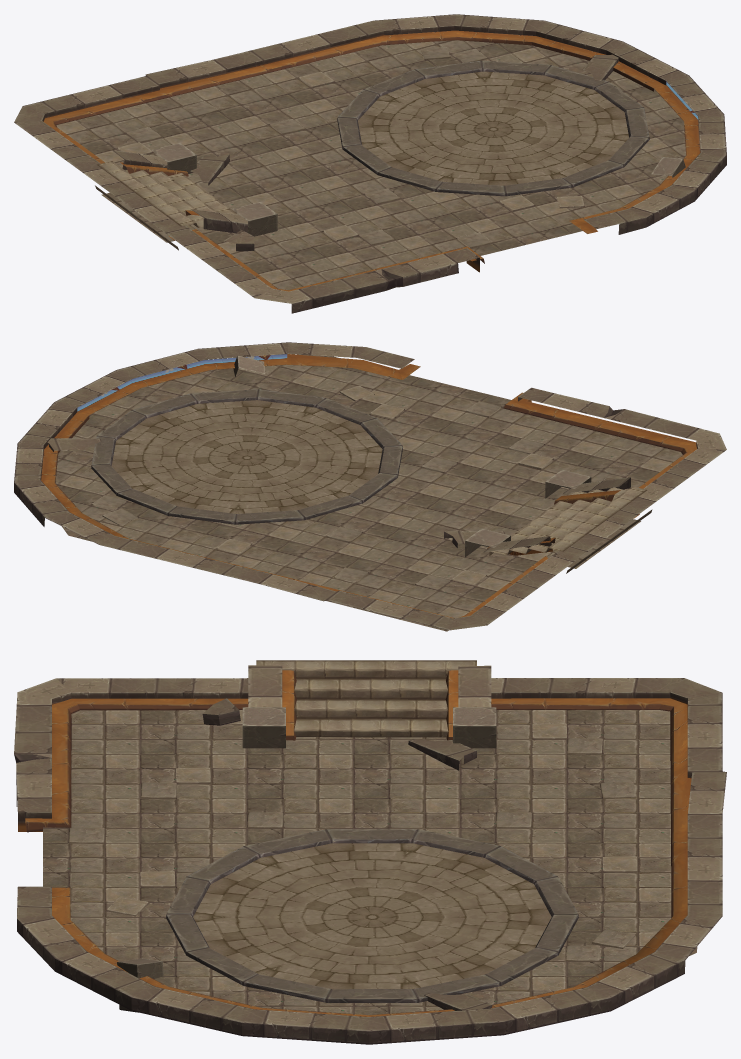
The model's file is terrain_section03_guanka1202.FBX.
3 views of the same model, one above another, from view 1: azimuth 30°, elevation 25°; view 2: azimuth 150°, elevation 25°; view 3: azimuth 270°, elevation 25° (orthographic). The views are drawn at different scales.
Parts seen in each view (by area): view 1: terrain_section03_guanka1202; view 2: terrain_section03_guanka1202; view 3: terrain_section03_guanka1202.
Part boxes in pixels (box(x1,y1,x2,y2)): terrain_section03_guanka1202: box(14, 14, 726, 313); terrain_section03_guanka1202: box(14, 342, 726, 631); terrain_section03_guanka1202: box(14, 660, 726, 1044).
Size of the model in its own units: 33.99 by 3.22 by 28.91.
